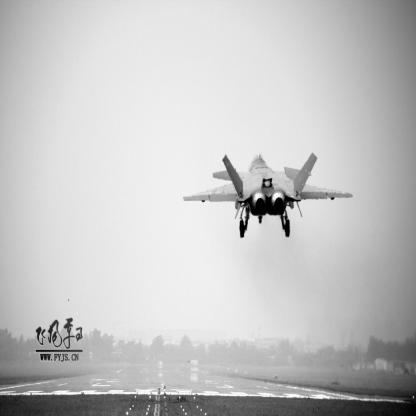J20: (184, 153, 354, 239)
